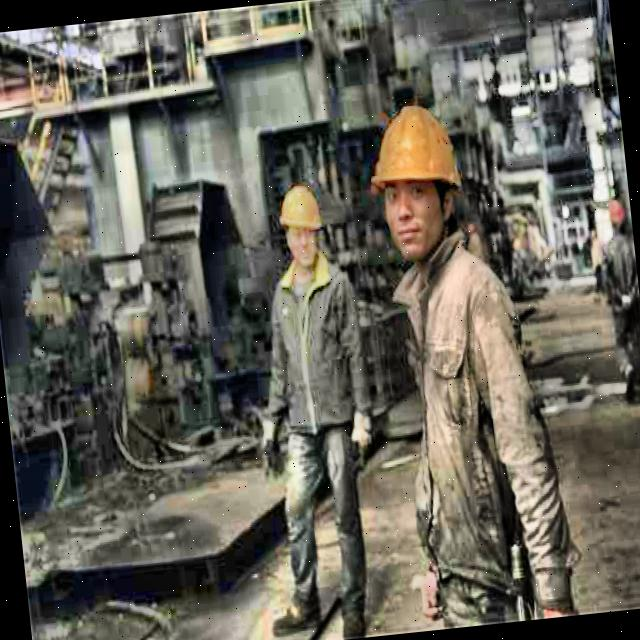helmet: (360, 95, 476, 275), (274, 176, 328, 272)
